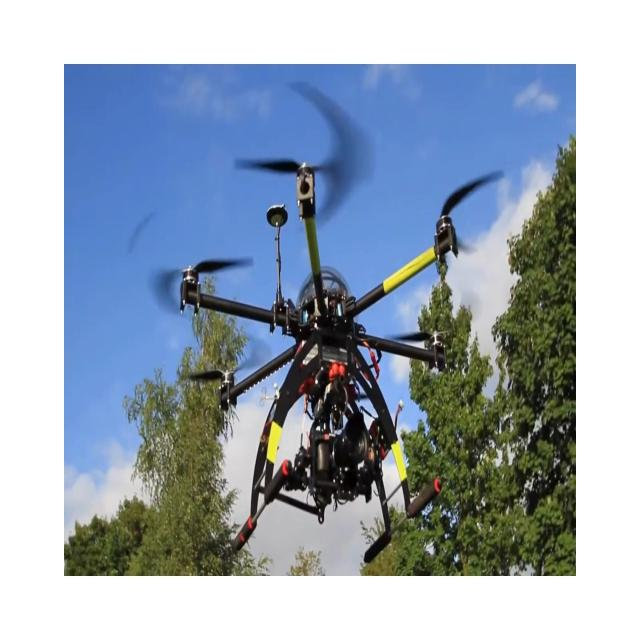drone: (138, 79, 506, 565)
